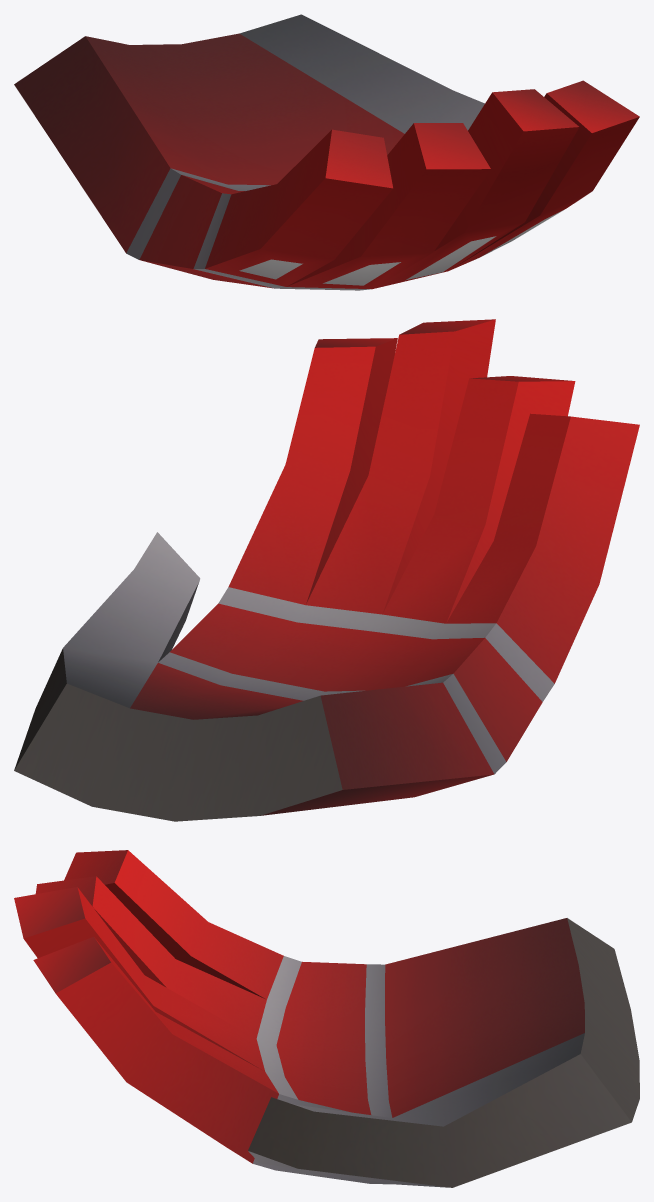
The model's file is Hand_Left_Grab.FBX.
3 views of the same model, one above another, from view 1: azimuth 30°, elevation 25°; view 2: azimuth 150°, elevation 25°; view 3: azimuth 270°, elevation 25° (orthographic). The views are drawn at different scales.
Visible parts, largest first — view 1: Hand_Left_Grab; view 2: Hand_Left_Grab; view 3: Hand_Left_Grab.
Part boxes in pixels (x1,y1,x2,y2): Hand_Left_Grab: [14, 14, 639, 290]; Hand_Left_Grab: [14, 319, 639, 821]; Hand_Left_Grab: [14, 850, 639, 1187].
Size of the model in its own units: 0.7012 by 0.5022 by 1.05.
Materials: 1 (1 with a texture image).
